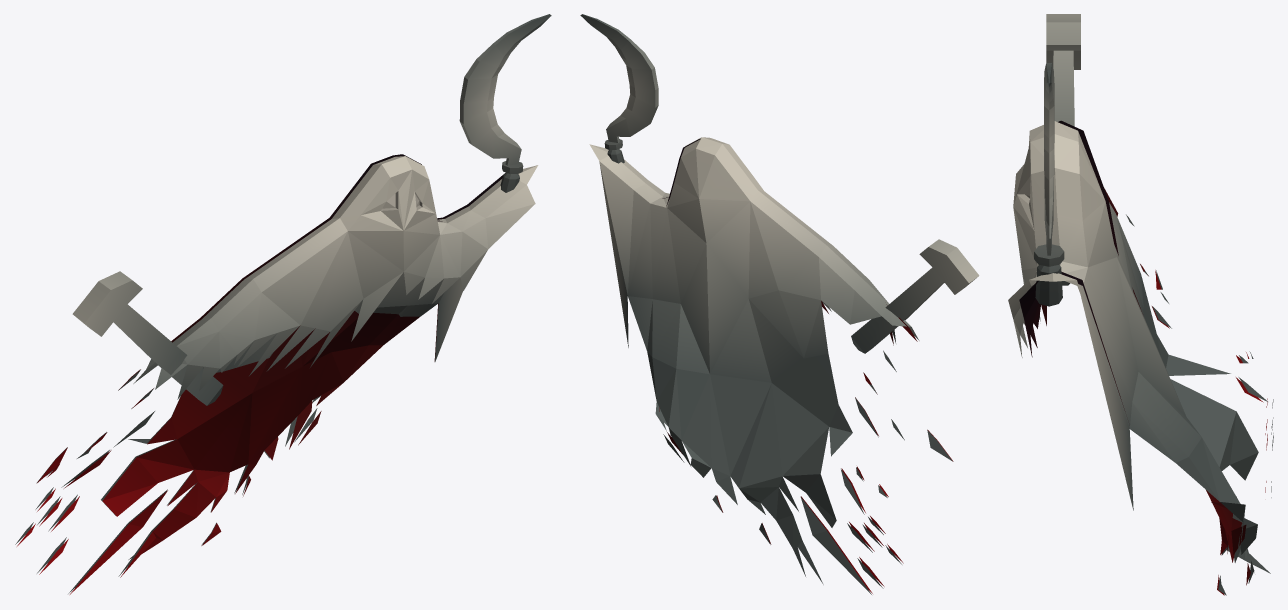
Rendered from SM_Ghost_01.fbx.
The picture shows the model from 3 angles, left to right: view 1: azimuth 30°, elevation 25°; view 2: azimuth 150°, elevation 25°; view 3: azimuth 270°, elevation 25°; orthographic projection. The views are drawn at different scales.
Parts seen in each view (by area): view 1: SM_Ghost_01; view 2: SM_Ghost_01; view 3: SM_Ghost_01.
Part boxes in pixels (x1=…): SM_Ghost_01: x1=15, y1=14, x2=551, y2=594; SM_Ghost_01: x1=580, y1=14, x2=979, y2=594; SM_Ghost_01: x1=1008, y1=14, x2=1273, y2=595.
Size of the model in its own units: 208 by 221 by 71.68.
